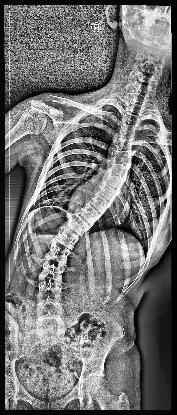Vertebrae: (52, 230, 82, 249), (38, 262, 66, 282), (64, 217, 91, 235), (44, 246, 72, 262), (36, 281, 64, 297), (37, 298, 65, 314), (37, 315, 65, 331), (78, 208, 104, 222), (112, 137, 136, 151), (108, 162, 132, 176), (97, 186, 121, 200), (88, 197, 112, 211), (117, 123, 138, 137), (104, 175, 126, 188), (120, 114, 142, 126), (112, 151, 132, 164), (124, 103, 145, 115)
